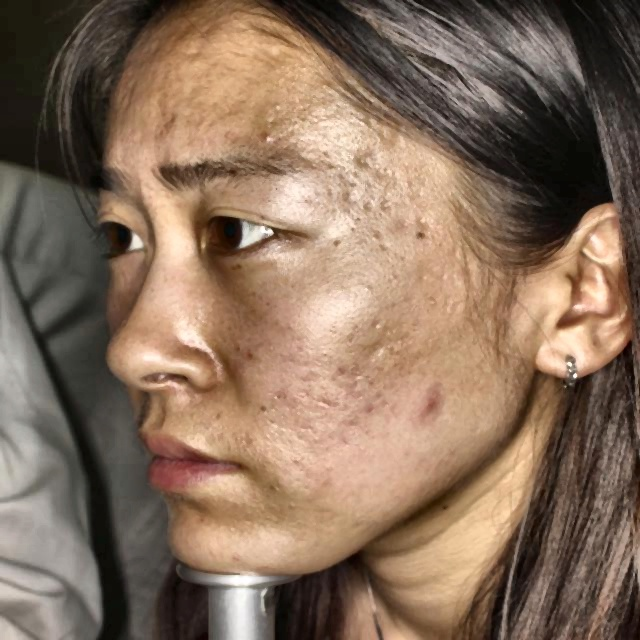comedone: (418, 387, 442, 420)
